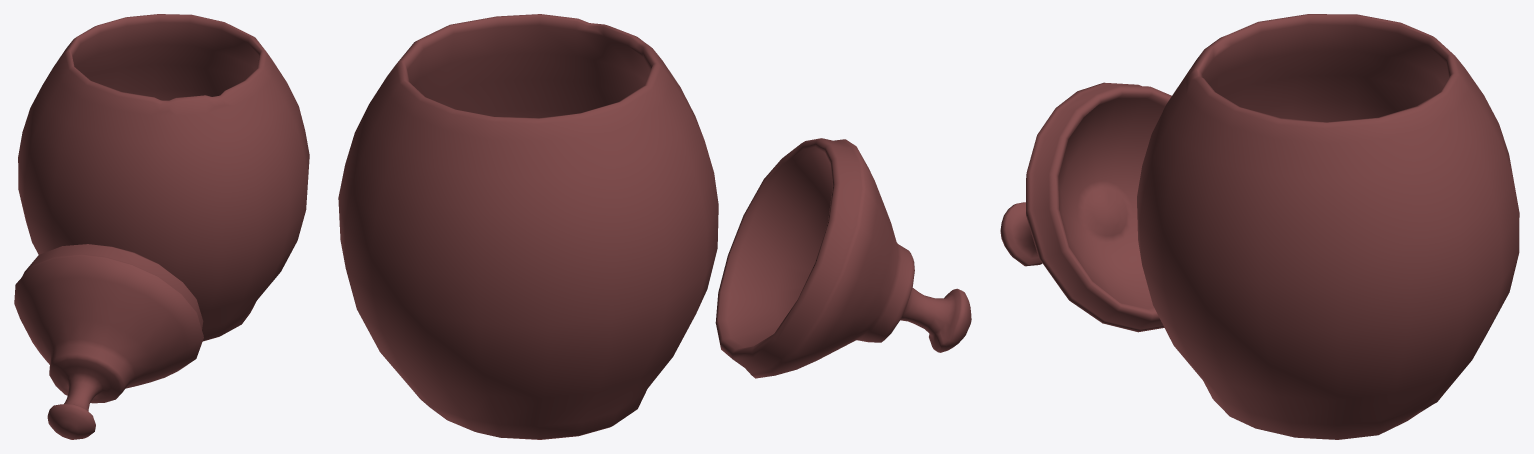
File: Reliquary.fbx
3 views of the same model, side by side, from view 1: azimuth 30°, elevation 25°; view 2: azimuth 150°, elevation 25°; view 3: azimuth 270°, elevation 25° (orthographic). The views are drawn at different scales.
Parts seen in each view (by area): view 1: Reliquary_Body, Reilquary_Lid; view 2: Reliquary_Body, Reilquary_Lid; view 3: Reliquary_Body, Reilquary_Lid.
Part boxes in pixels (x1=…): Reliquary_Body: x1=18, y1=14, x2=309, y2=341; Reilquary_Lid: x1=14, y1=244, x2=203, y2=439; Reliquary_Body: x1=338, y1=14, x2=718, y2=439; Reilquary_Lid: x1=715, y1=138, x2=971, y2=378; Reliquary_Body: x1=1137, y1=14, x2=1519, y2=439; Reilquary_Lid: x1=1000, y1=82, x2=1171, y2=332.
Bounding box in the file's own units: 11.57 × 11.38 × 7.94.
